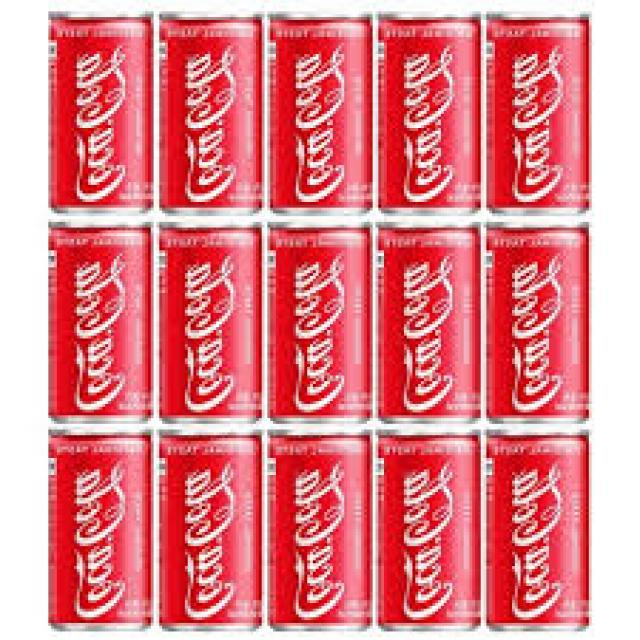Coca-Cola: (482, 4, 601, 218), (483, 424, 596, 634), (155, 426, 266, 637), (374, 5, 483, 219), (262, 8, 373, 216), (48, 7, 157, 217), (48, 427, 157, 634), (42, 222, 154, 423), (373, 224, 483, 428), (487, 220, 597, 423), (267, 427, 375, 633), (156, 224, 266, 426), (160, 3, 264, 216), (376, 432, 483, 638), (266, 221, 369, 429)
